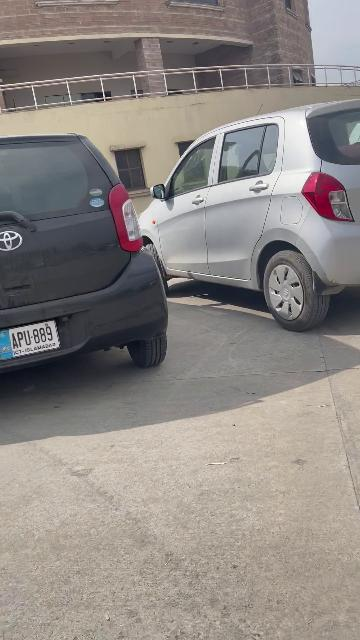plate: (0, 319, 61, 362)
